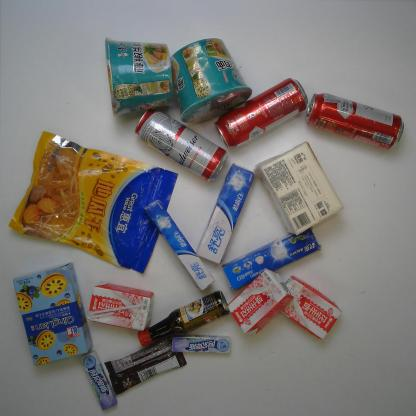Alcohol: (211, 74, 312, 152), (132, 104, 230, 183), (304, 87, 406, 152)
Candy: (80, 346, 120, 412), (168, 329, 236, 355)
Chocolate: (103, 332, 189, 397)
Dessert: (10, 258, 95, 371)
Dried Fruit: (6, 127, 180, 276)
Instant Noodles: (168, 36, 257, 126), (99, 33, 177, 118)
Milk: (224, 264, 295, 340), (274, 271, 344, 344), (84, 279, 156, 333)
Personal Hygiene: (141, 195, 216, 294), (220, 223, 324, 293), (193, 162, 256, 266)
Seasoner: (136, 288, 232, 352)
Tissue: (251, 138, 347, 238)
